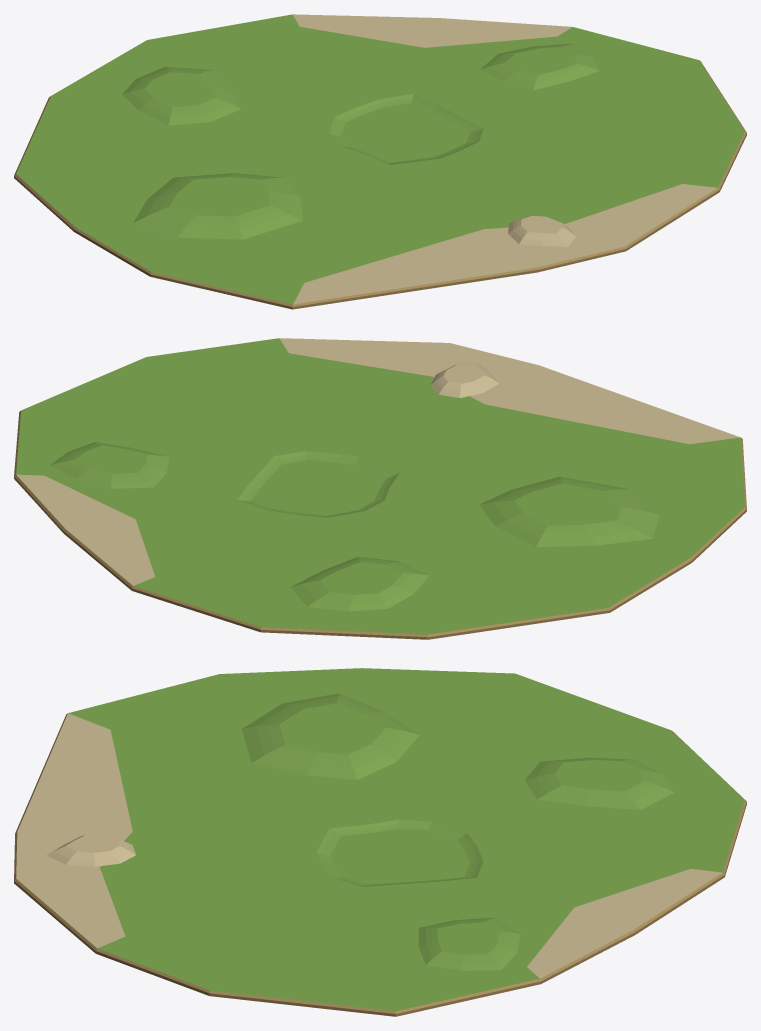
The model's file is grass-terrain-blob-cb42d6.glb.
3 views of the same model, one above another, from view 1: azimuth 30°, elevation 25°; view 2: azimuth 150°, elevation 25°; view 3: azimuth 270°, elevation 25° (orthographic). The views are drawn at different scales.
Visible parts, largest first — view 1: grass-terrain-blob-mesh; view 2: grass-terrain-blob-mesh; view 3: grass-terrain-blob-mesh.
Part boxes in pixels (box(x1,y1,x2,y2)): grass-terrain-blob-mesh: box(14, 14, 746, 309); grass-terrain-blob-mesh: box(14, 338, 746, 639); grass-terrain-blob-mesh: box(14, 668, 746, 1016).
Bounding box in the file's own units: 8 × 0.15 × 7.18.
